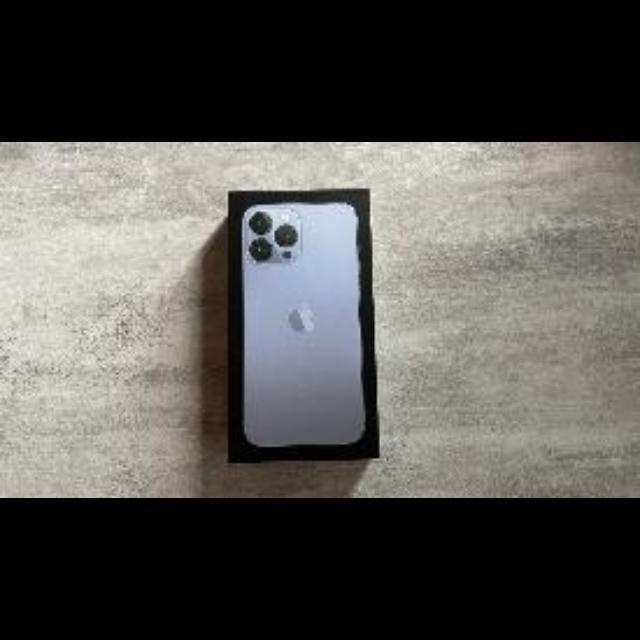phone: (229, 190, 377, 459)
